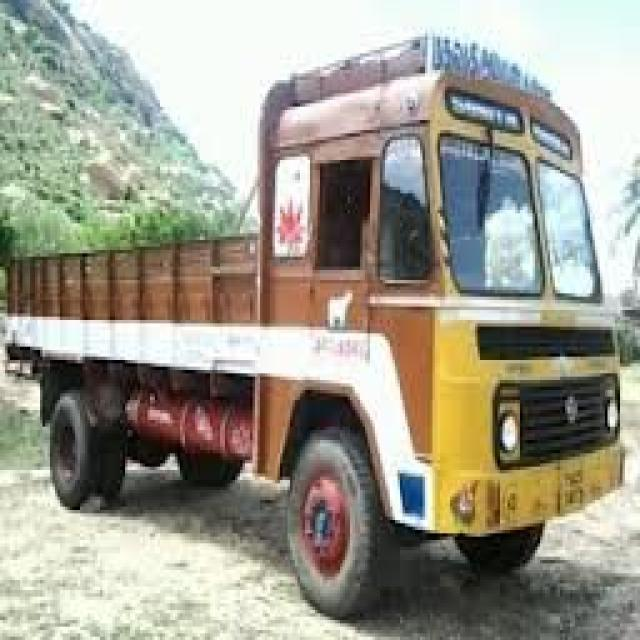truck_front: (0, 28, 630, 627)
